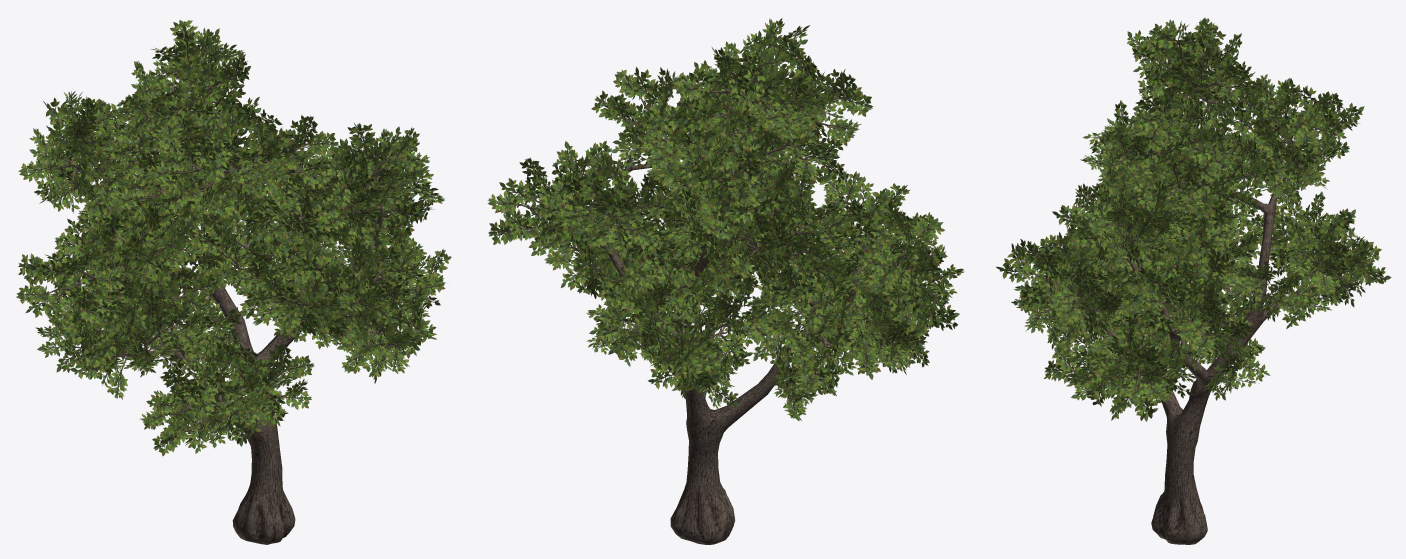
File: realistic-tree.glb
The picture shows the model from 3 angles, left to right: view 1: azimuth 30°, elevation 25°; view 2: azimuth 150°, elevation 25°; view 3: azimuth 270°, elevation 25°; orthographic projection. The views are drawn at different scales.
Parts seen in each view (by area): view 1: crown merged, trunk_low, br_low; view 2: crown merged, trunk_low, br_low; view 3: crown merged, trunk_low, br_low.
Part boxes in pixels (x1,y1,x2,y2): crown merged: (16,20,451,456); trunk_low: (91,109,382,544); br_low: (47,64,414,432); crown merged: (487,18,964,420); trunk_low: (594,97,869,544); br_low: (521,54,932,400); crown merged: (995,17,1391,421); trunk_low: (1068,89,1309,544); br_low: (1031,50,1349,383).
Bounding box in the file's own units: 14.35 × 16.05 × 11.72.
Materials: 2 (2 with a texture image).
